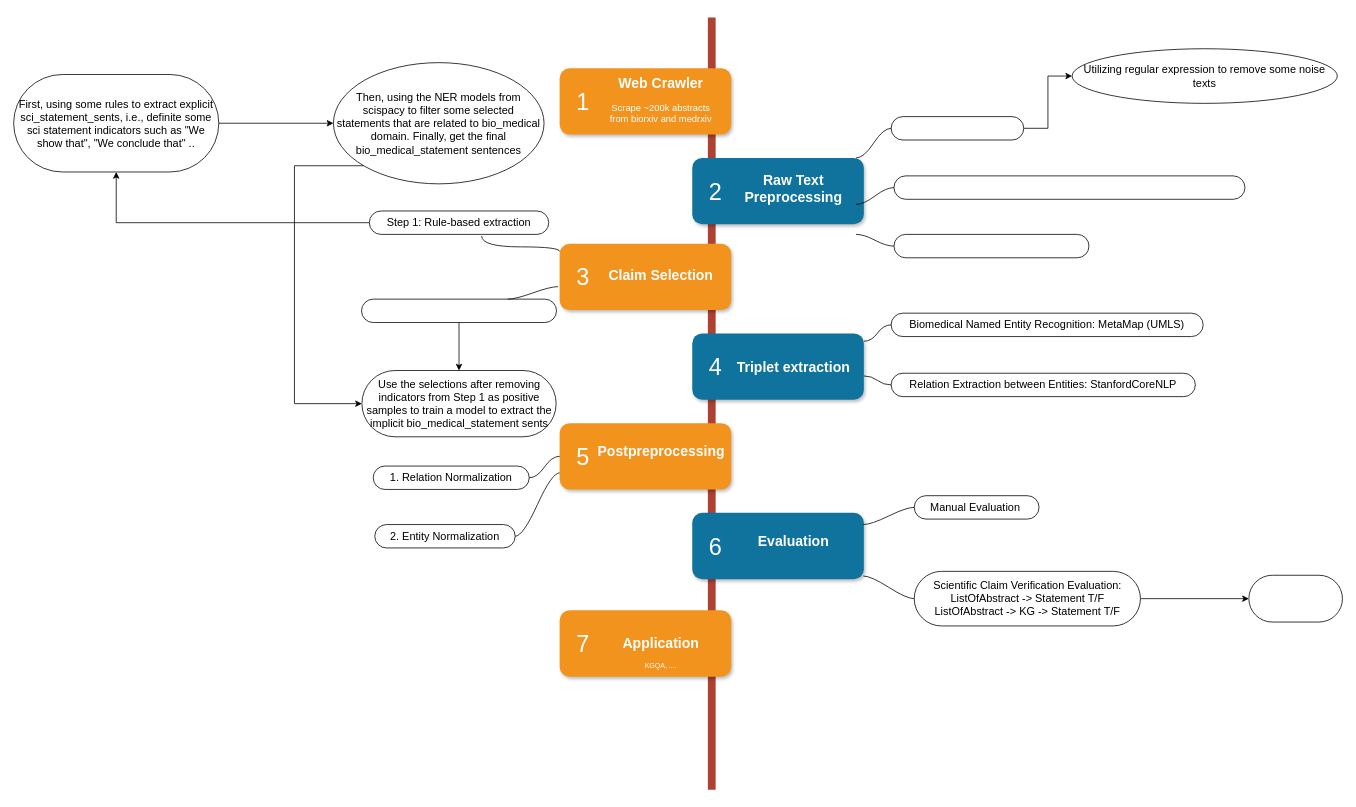
The diagram is 1356 pixels wide and 807 high, and some of its shapes have lost their labels. Here are the shapes that lost their labels. From the top down, the centre of each, then its label:
the point at 957,128: Step 1: Clean Texts
the point at 1069,187: Step 2: Coreference Resolution (StandfordCoreNLP/Huggingface)
the point at 991,246: Step 3: Sentences segmentation
the point at 459,310: Step 2: Model-based extraction
the point at 1295,598: KGQA
